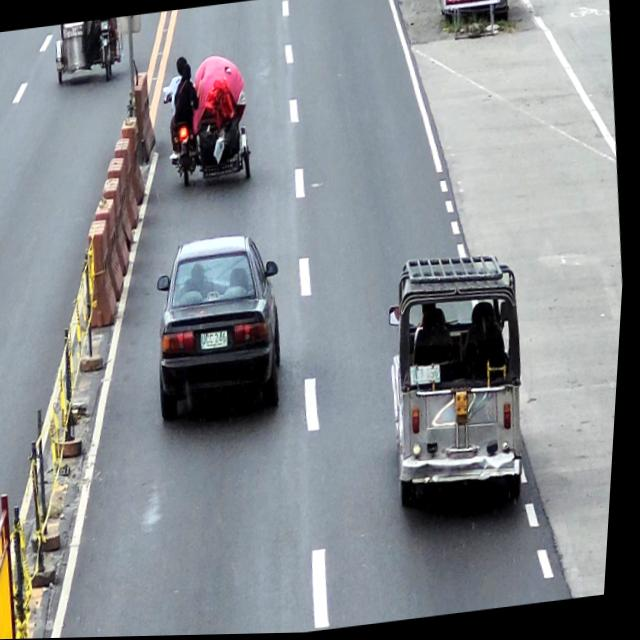Car: (375, 248, 546, 520), (147, 230, 299, 428)
License-Plate: (412, 364, 447, 389), (202, 330, 232, 351)
Tricycle: (162, 80, 260, 190), (51, 17, 125, 87)
